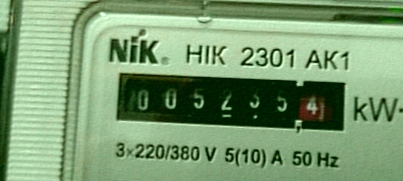0: (161, 87, 178, 112), (133, 87, 149, 113)
2: (216, 87, 234, 114)
3: (243, 86, 262, 112)
4: (301, 89, 321, 120)
5: (271, 86, 289, 115), (189, 86, 205, 112)
screen: (101, 57, 355, 146)
